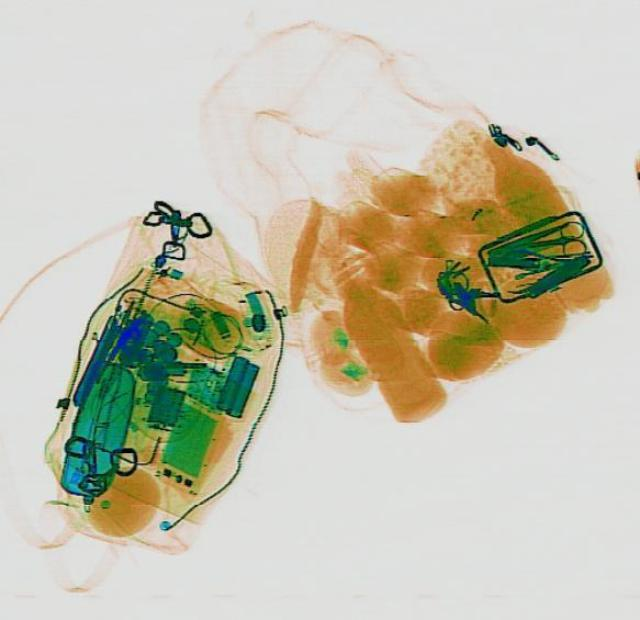Scissors: (516, 217, 586, 264)
